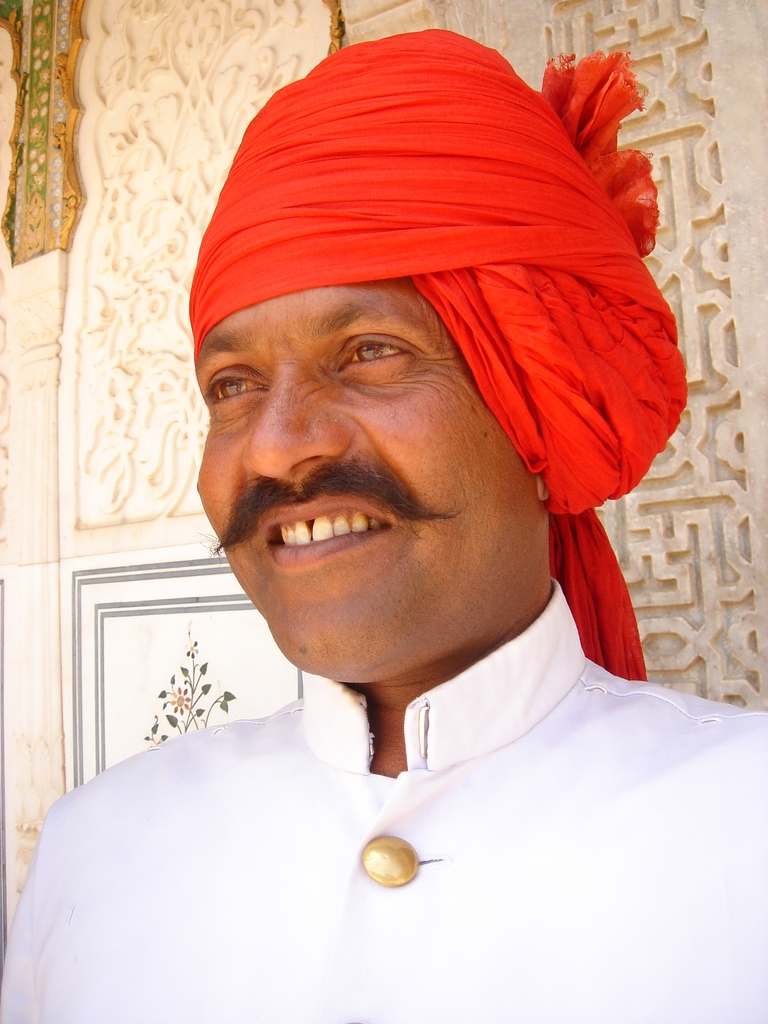Person: (0, 28, 767, 1023)
